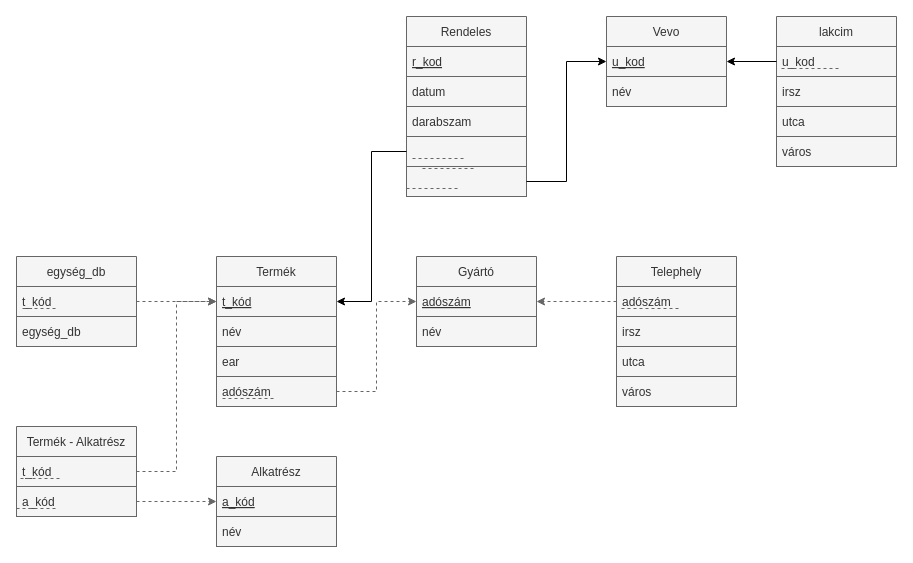
The diagram is 913 pixels wide and 563 high, and some of its shapes have lost their labels. The centre of each missing label's shape, as x and y in pixels:
"tkod" belongs at point (466, 151).
"ukod" belongs at point (466, 181).
